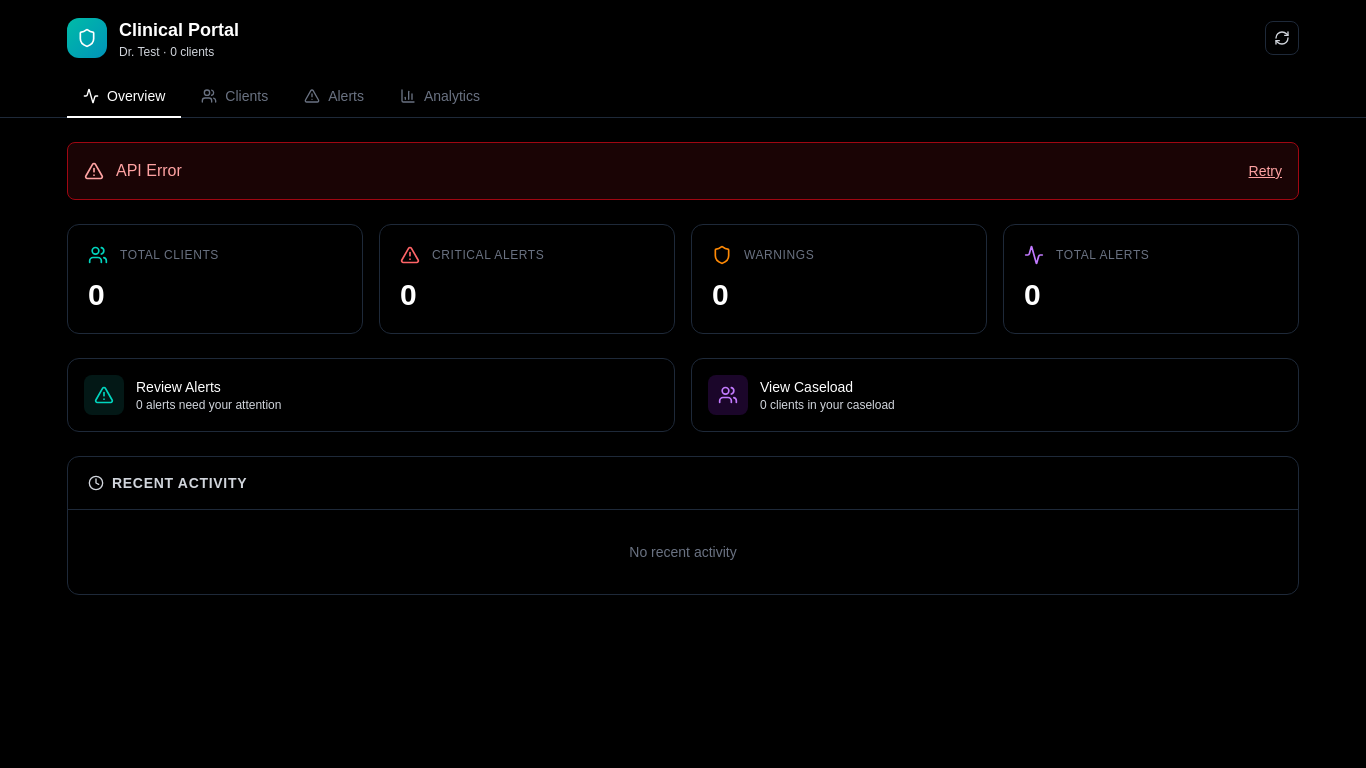
Scenario: ClinicalPortal › handles data loading errors
Expected: the text "API Error" is shown, [116,159,182,183]
Step 1. Click the button "Retry" → (1265, 171), box [1248,161,1282,181]
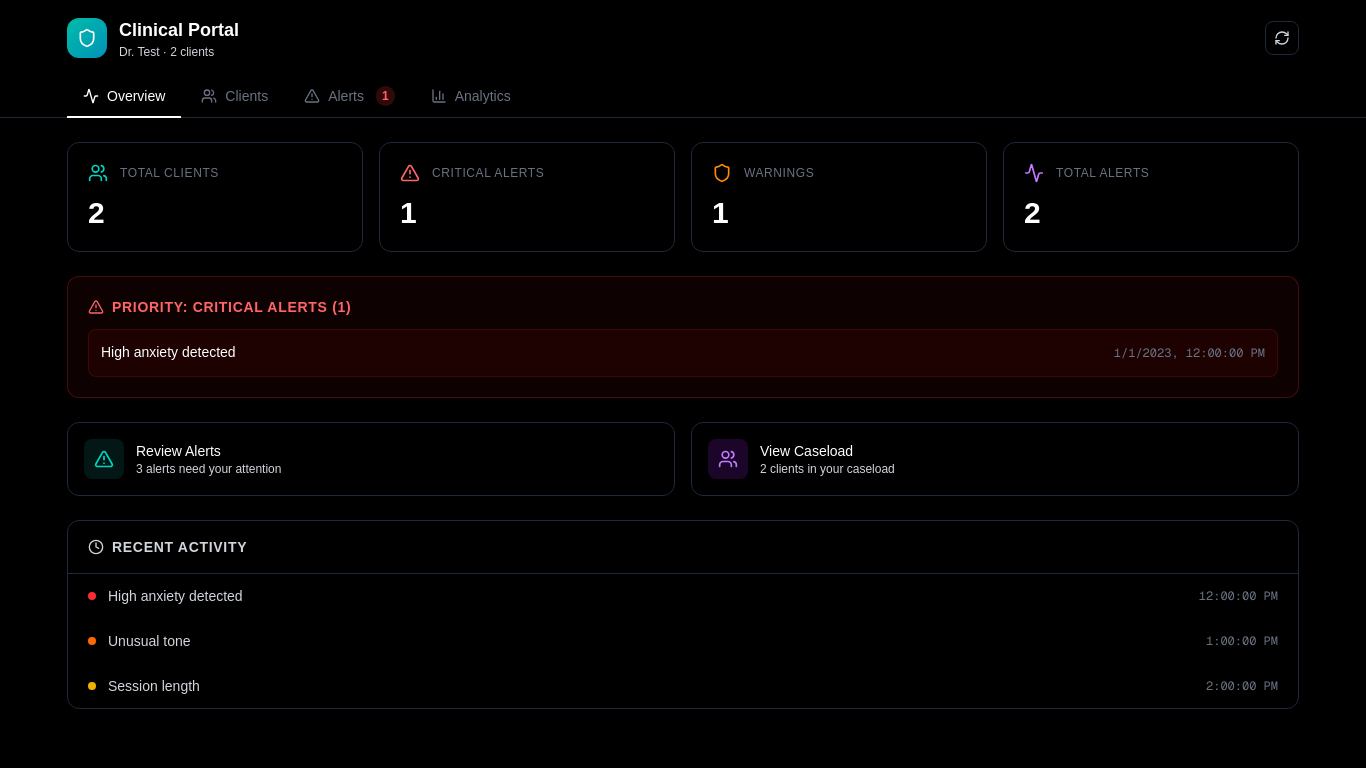
Expected: the text "API Error" is gone
